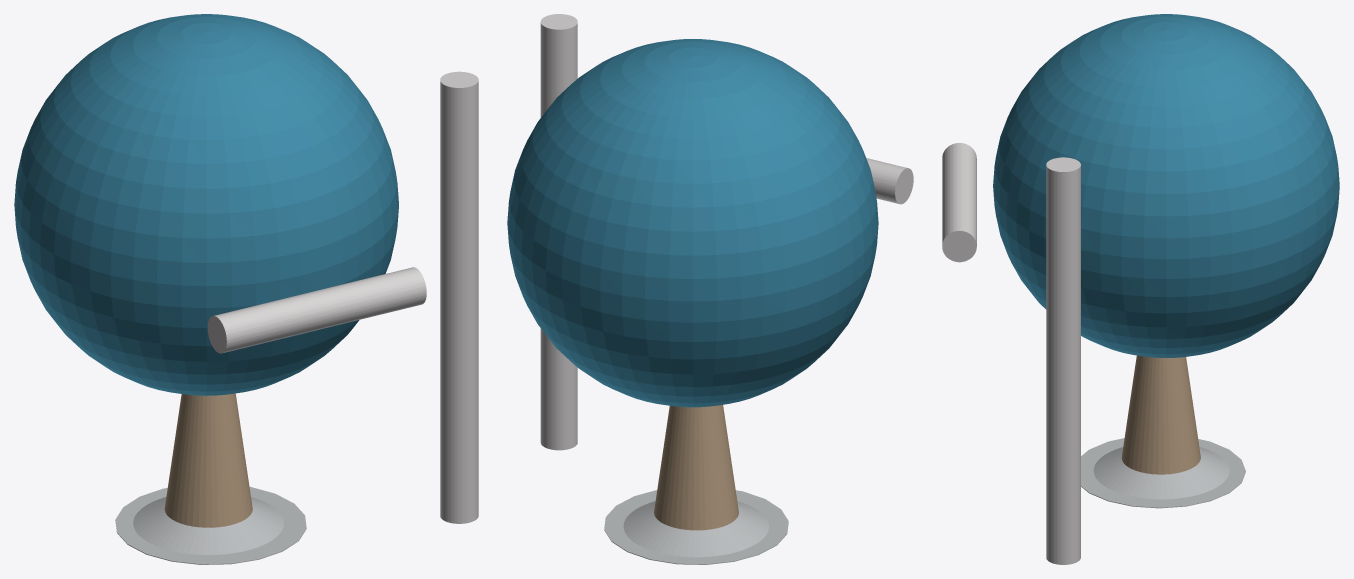
Rendered from MainSphereTreeBlue.glb.
3 views of the same model, side by side, from view 1: azimuth 30°, elevation 25°; view 2: azimuth 150°, elevation 25°; view 3: azimuth 270°, elevation 25° (orthographic). The views are drawn at different scales.
Visible parts, largest first — view 1: Mesh_Mesh_head_geo.001_lambert2SG.001; view 2: Mesh_Mesh_head_geo.001_lambert2SG.001; view 3: Mesh_Mesh_head_geo.001_lambert2SG.001.
Boxes of the visible parts, x1,y1,x2,y2 form: Mesh_Mesh_head_geo.001_lambert2SG.001: (14,14,478,564); Mesh_Mesh_head_geo.001_lambert2SG.001: (507,14,913,564); Mesh_Mesh_head_geo.001_lambert2SG.001: (942,14,1339,564).
Size of the model in its own units: 5.68 by 7.02 by 5.73.
